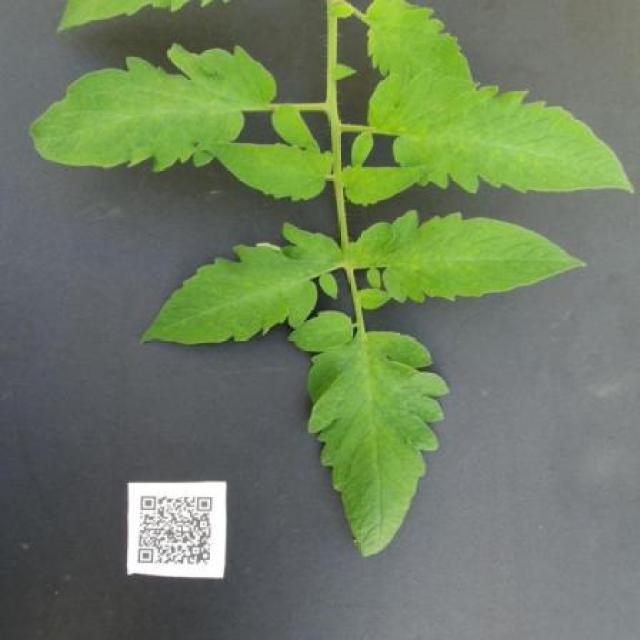Healthy: (367, 66, 640, 196), (305, 329, 451, 561), (30, 42, 276, 168), (140, 222, 344, 347), (345, 212, 588, 304), (201, 139, 336, 204), (341, 163, 436, 208)
